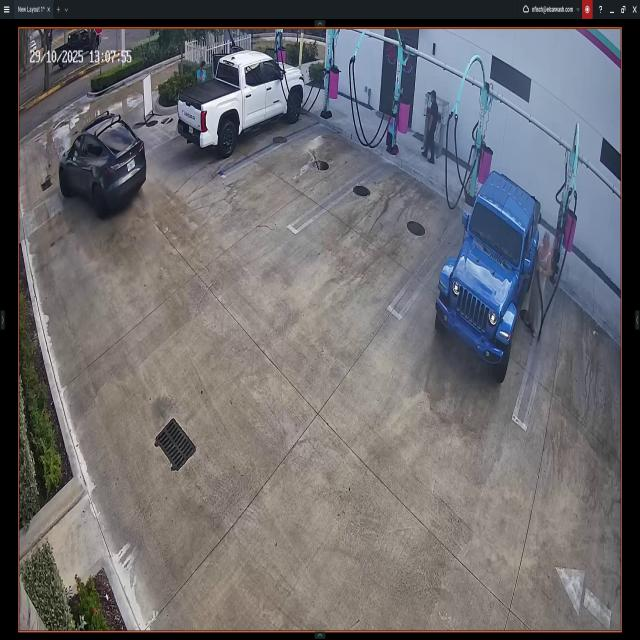Car: (435, 171, 541, 381), (177, 54, 305, 158), (54, 120, 146, 217)
